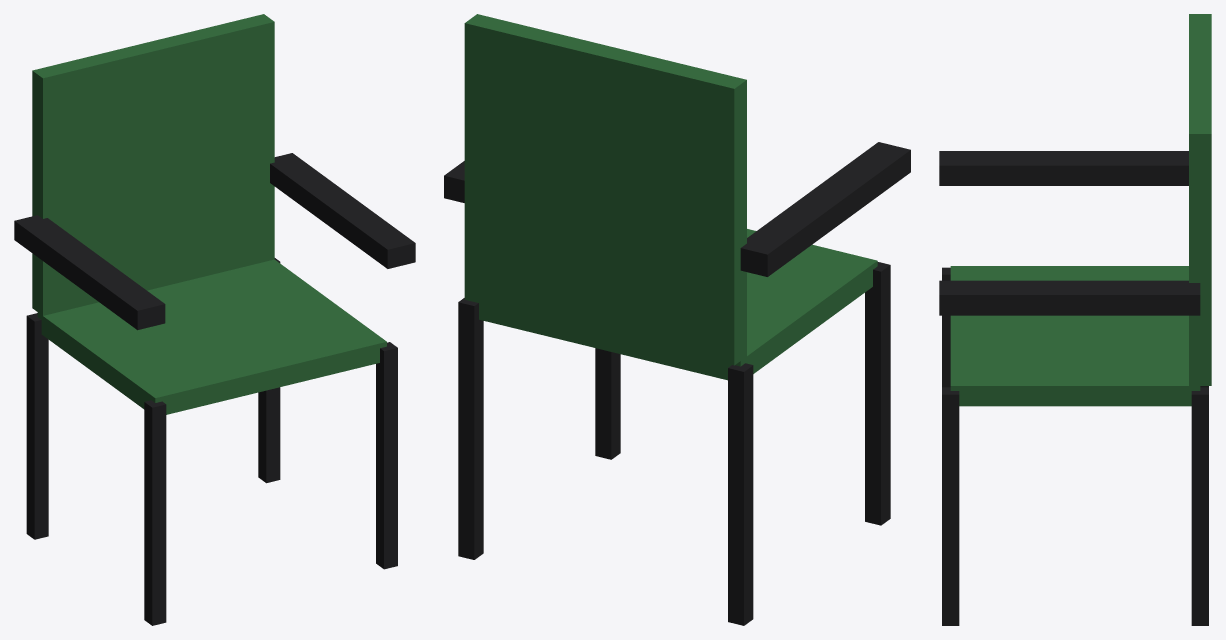
Rendered from chair_green.dae.
The picture shows the model from 3 angles, left to right: view 1: azimuth 30°, elevation 25°; view 2: azimuth 150°, elevation 25°; view 3: azimuth 270°, elevation 25°; orthographic projection. The views are drawn at different scales.
Parts seen in each view (by area): view 1: marker; view 2: marker; view 3: marker.
Part boxes in pixels (x1,y1,x2,y2): marker: (14, 14, 415, 625); marker: (444, 14, 910, 625); marker: (939, 14, 1211, 625).
Size of the model in its own units: 0.6 by 0.48 by 0.95.
1 material, 1 textured.
